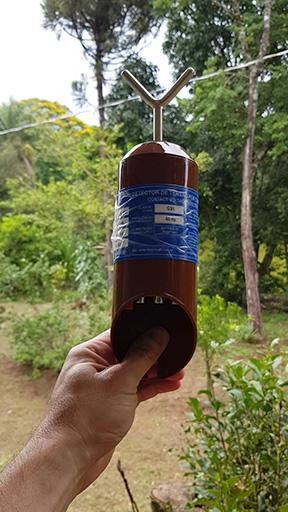Detector_Tensao_Contato: (110, 65, 200, 389)
